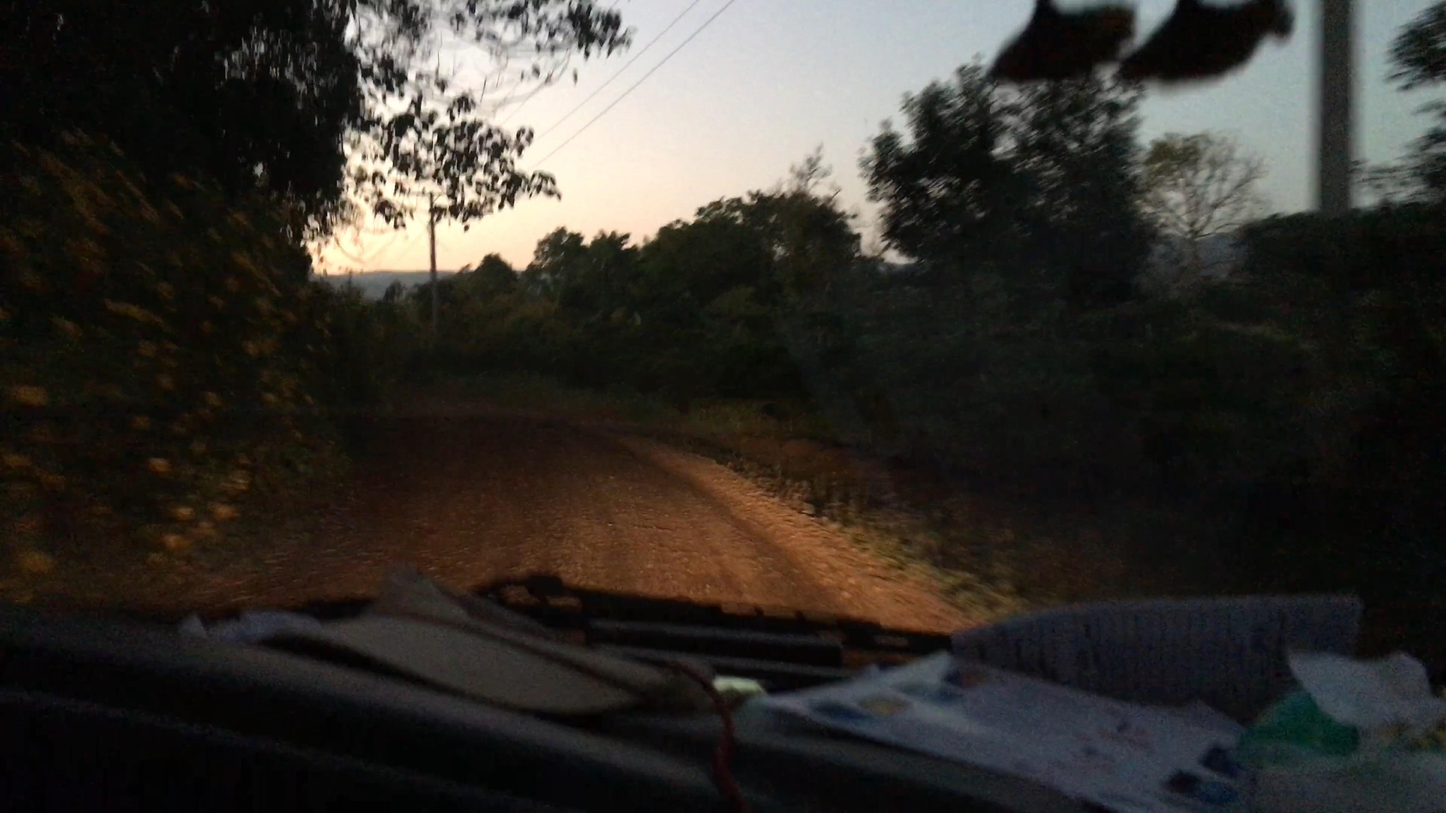dry: (140, 386, 1016, 633)
